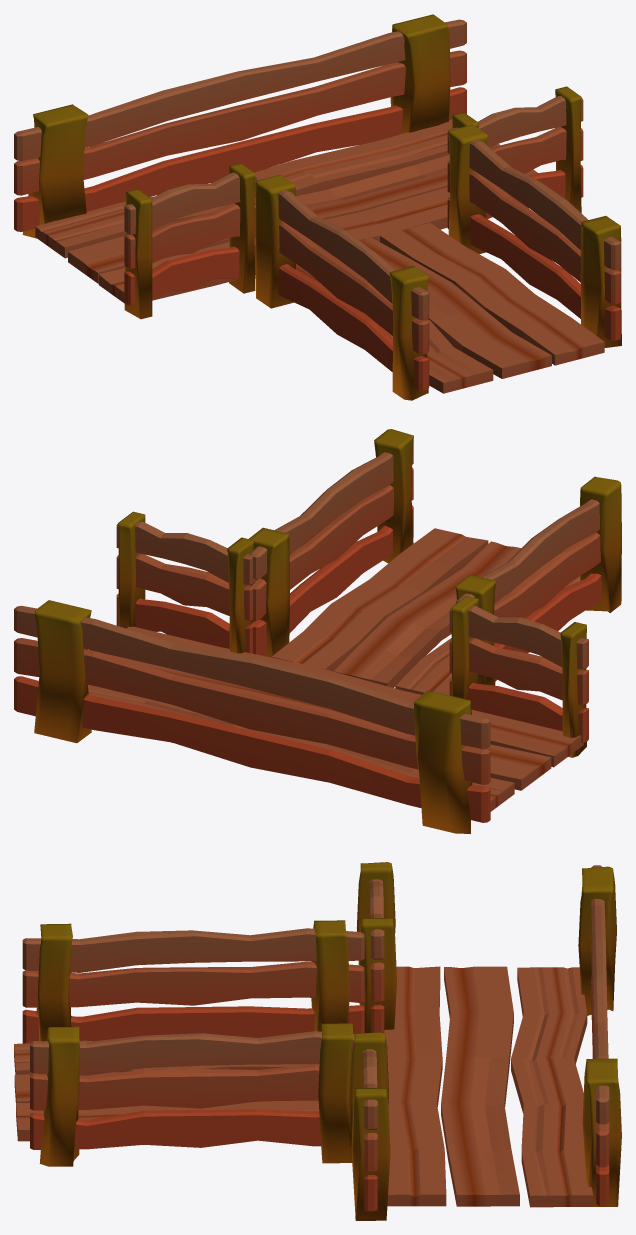
Rendered from сегмент разветвление.fbx.
3 renders of one model, top to bottom at view 1: azimuth 30°, elevation 25°; view 2: azimuth 150°, elevation 25°; view 3: azimuth 270°, elevation 25°, orthographic. The views are drawn at different scales.
Parts seen in each view (by area): view 1: Cube.013, Cube.019, Cube.014, Cube.020, Cube.004, Cube.054; view 2: Cube.013, Cube.019, Cube.020, Cube.054, Cube.004, Cube.014; view 3: Cube.019, Cube.014, Cube.013, Cube.054, Cube.004, Cube.020.
Boxes of the visible parts, x1=… form: Cube.013: x1=14, y1=14, x2=466, y2=238; Cube.019: x1=255, y1=124, x2=621, y2=400; Cube.014: x1=35, y1=119, x2=537, y2=306; Cube.020: x1=296, y1=223, x2=604, y2=393; Cube.004: x1=124, y1=163, x2=256, y2=319; Cube.054: x1=451, y1=86, x2=583, y2=218; Cube.013: x1=14, y1=600, x2=490, y2=833; Cube.019: x1=249, y1=429, x2=621, y2=685; Cube.020: x1=271, y1=528, x2=580, y2=695; Cube.054: x1=116, y1=511, x2=255, y2=653; Cube.004: x1=449, y1=596, x2=588, y2=757; Cube.014: x1=88, y1=626, x2=583, y2=811; Cube.019: x1=22, y1=920, x2=364, y2=1166; Cube.014: x1=384, y1=966, x2=593, y2=1207; Cube.013: x1=578, y1=865, x2=621, y2=1206; Cube.054: x1=350, y1=1032, x2=390, y2=1220; Cube.004: x1=356, y1=862, x2=396, y2=1032; Cube.020: x1=14, y1=1040, x2=319, y2=1141.
Bounding box in the file's own units: 1689 × 414 × 1788.
